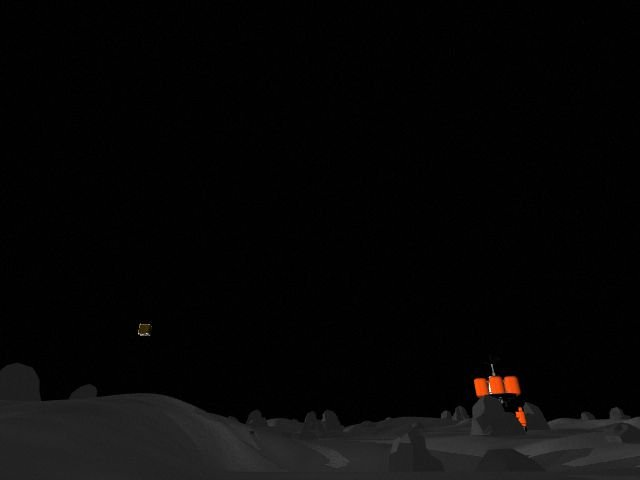cubesat: (134, 320, 158, 340)
